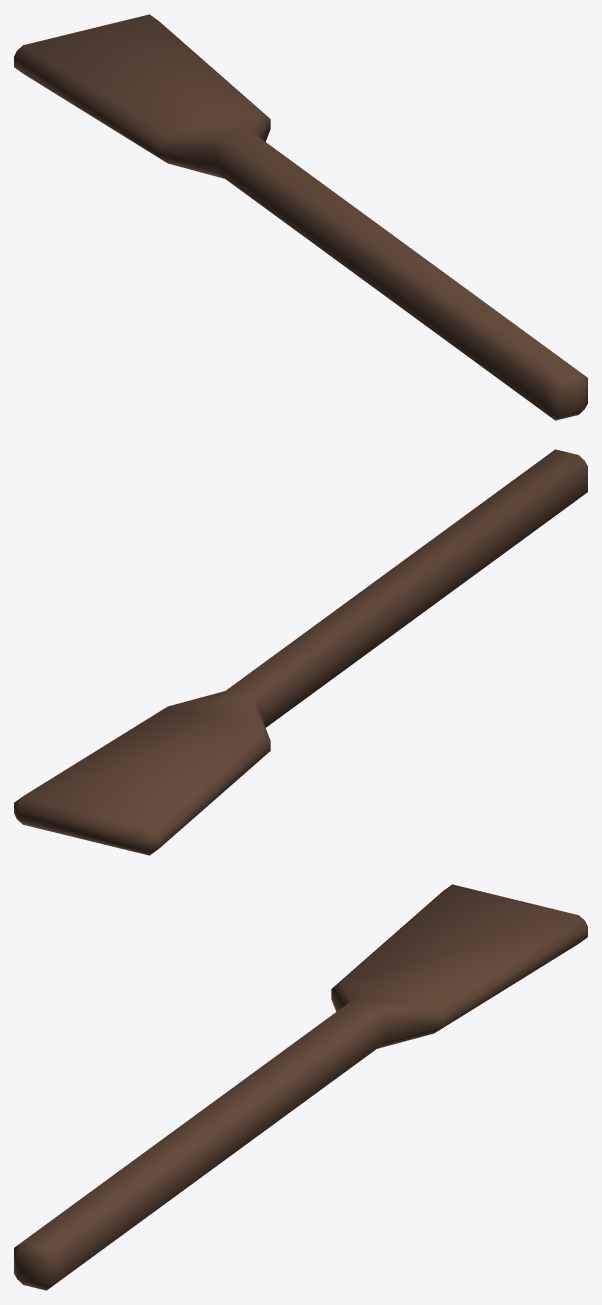
The model's file is Paddle.fbx.
3 views of the same model, one above another, from view 1: azimuth 30°, elevation 25°; view 2: azimuth 150°, elevation 25°; view 3: azimuth 330°, elevation 25° (orthographic).
Visible parts, largest first — view 1: Cube.618; view 2: Cube.618; view 3: Cube.618.
Part boxes in pixels (x1,y1,x2,y2): Cube.618: [14, 14, 587, 420]; Cube.618: [14, 449, 587, 855]; Cube.618: [14, 884, 587, 1290].
Bounding box in the file's own units: 12.08 × 3.47 × 70.76.
